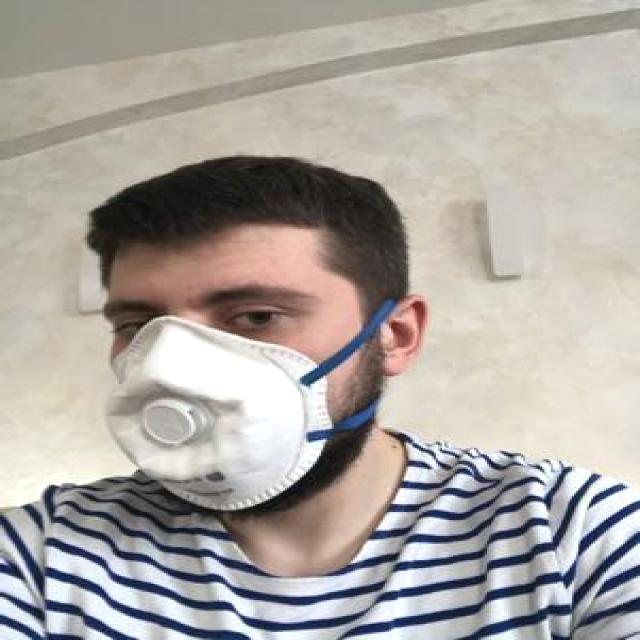face_mask: (104, 256, 340, 517)
head_nohelmet: (117, 144, 415, 258)
person: (0, 195, 506, 640)
